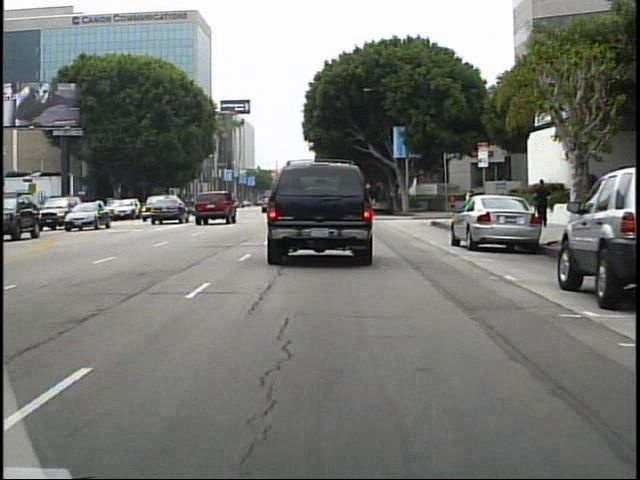person: (536, 175, 552, 227), (461, 185, 480, 226)
